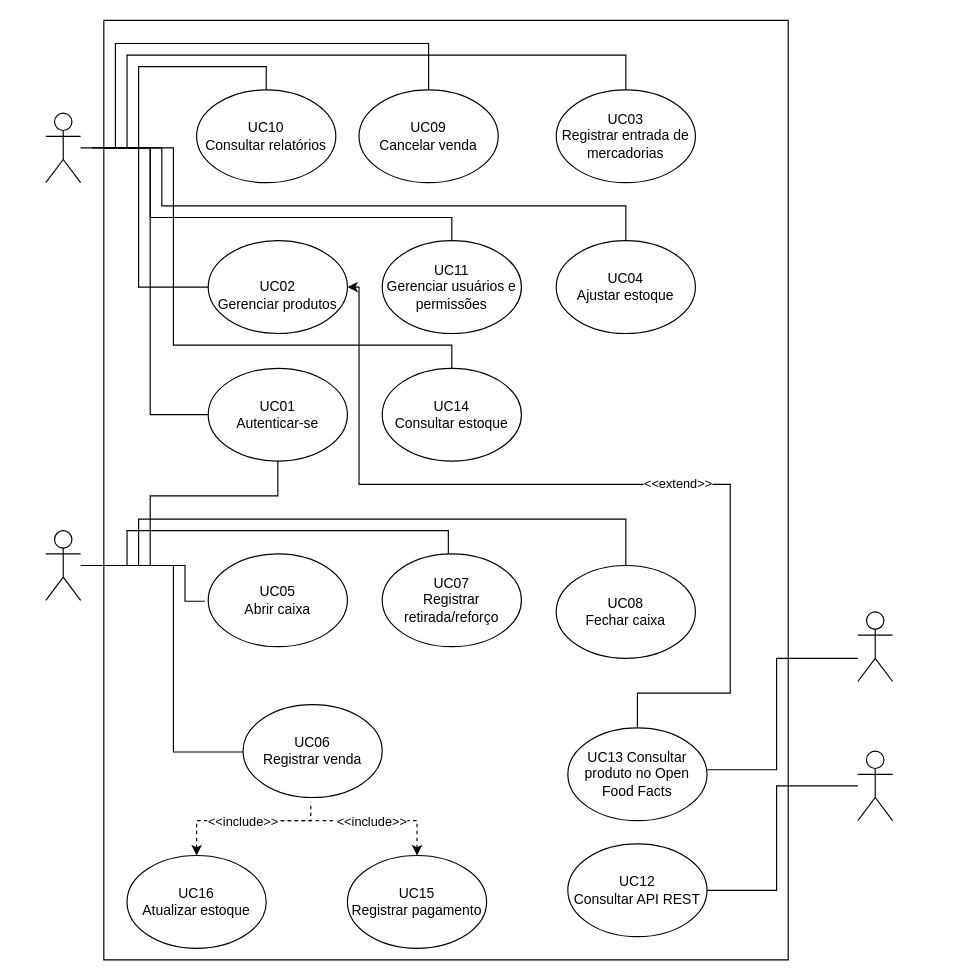
Some shapes in this 954 by 980 pixel diagram are drawn without their labels. Here are the shapes that lost their labels. From the top down, the box of each, then its label:
(45, 112, 81, 183): Administrador
(45, 530, 81, 600): Atendente
(857, 611, 893, 682): Open Food Facts
(857, 750, 893, 821): Consumidor da api
